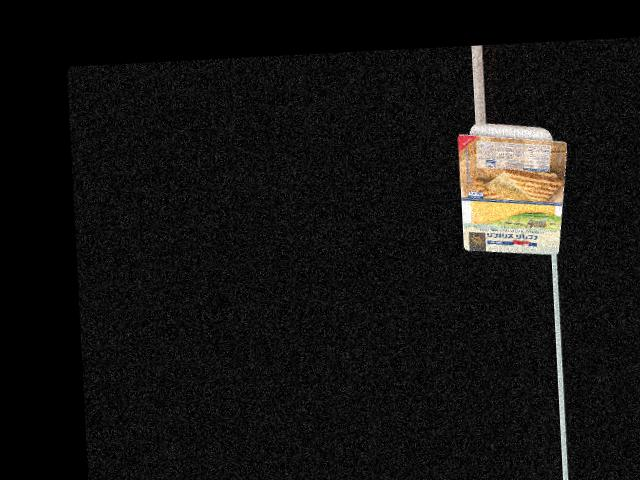cheese: (461, 118, 569, 257)
